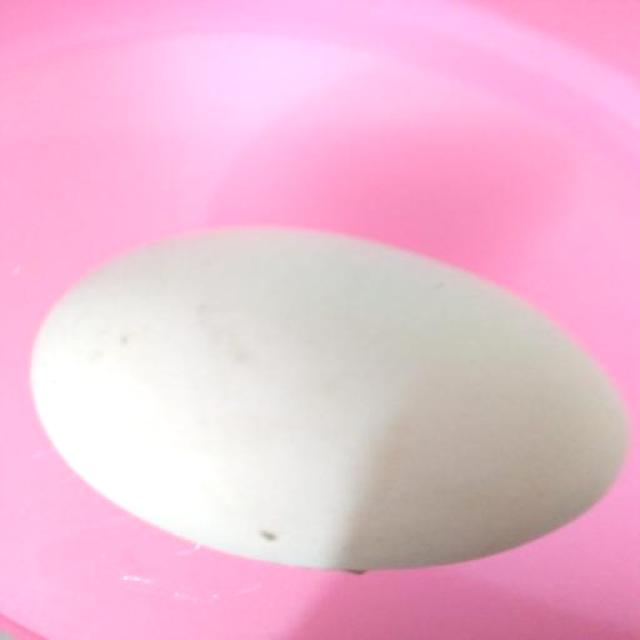telur: (20, 214, 635, 580)
